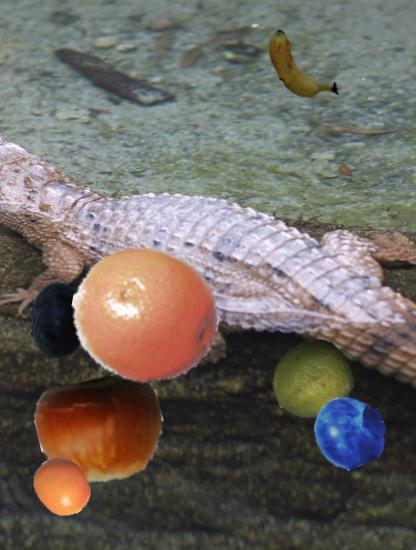Banana: (256, 22, 345, 111)
Blueberry: (17, 282, 95, 360)
Grapefruit: (32, 456, 93, 517)
Huckleberry: (314, 395, 387, 468)
Limes: (271, 340, 353, 422)
Nut: (38, 367, 165, 494)
Tangelo: (71, 241, 220, 390)
